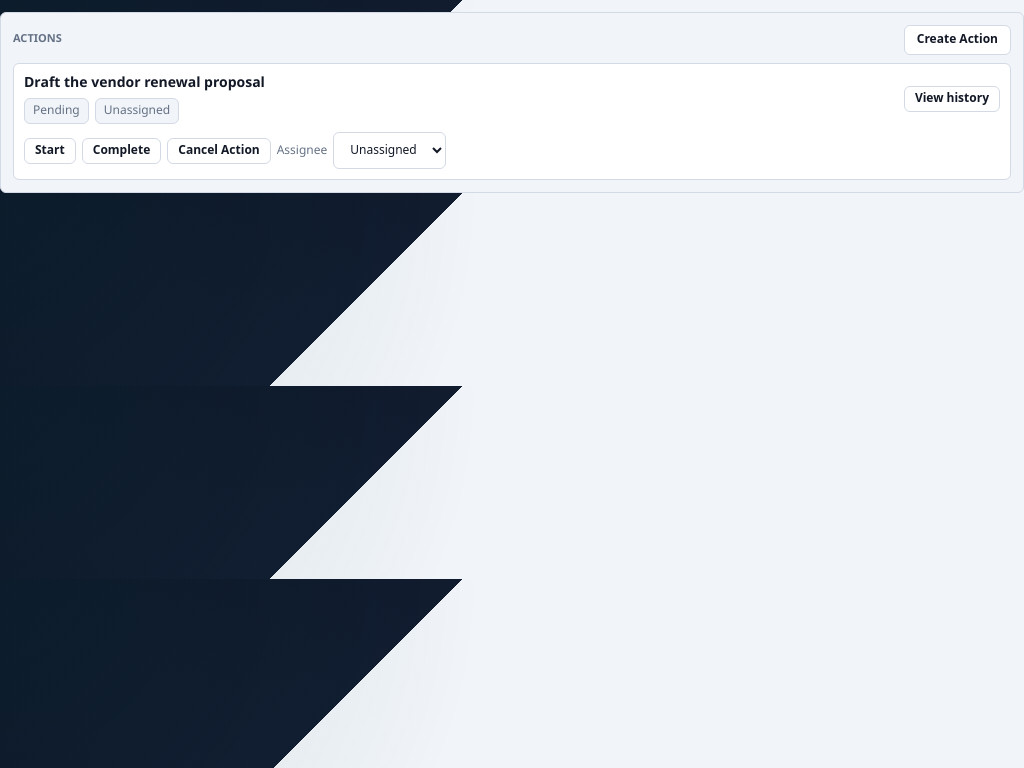
Test case: Actions panel - detail / history › renders the initial status event as Initial -> Pending, never Unassigned -> Pending, with a visible timestamp
The image size is (1024, 768).
Expected: the text "Draft the vendor renewal proposal" is shown, [24, 74, 265, 94]
Click the button "View history" at (952,99), box [904, 86, 1000, 112]
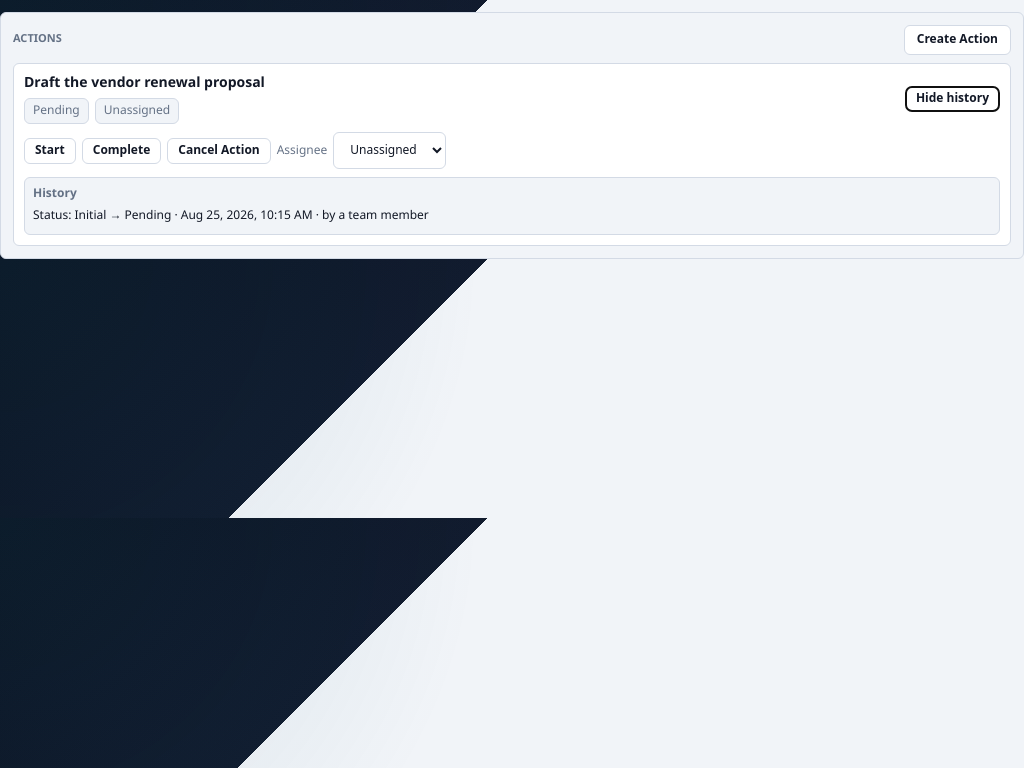
Expected: the text "Status: Initial . Pending" is shown, [33, 203, 429, 228]
Expected: the text "2026" is shown, [181, 203, 313, 228]
Click the button "Hide history" at (952,99), box [905, 86, 1000, 112]
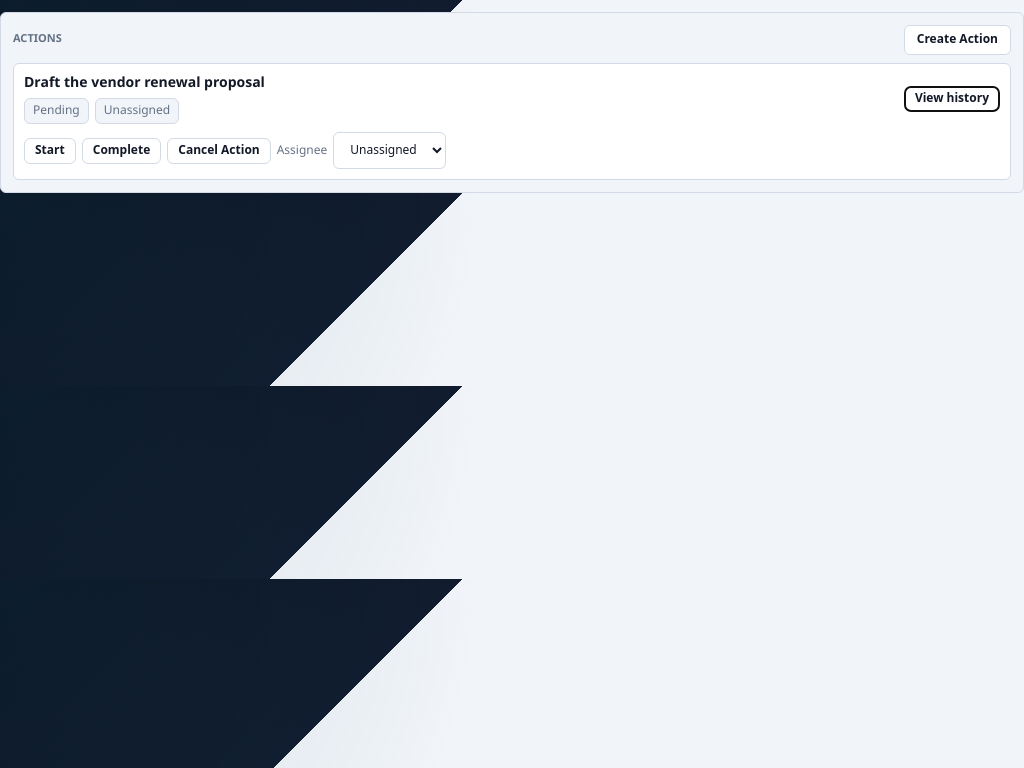
Expected: the text "Status:" is gone
